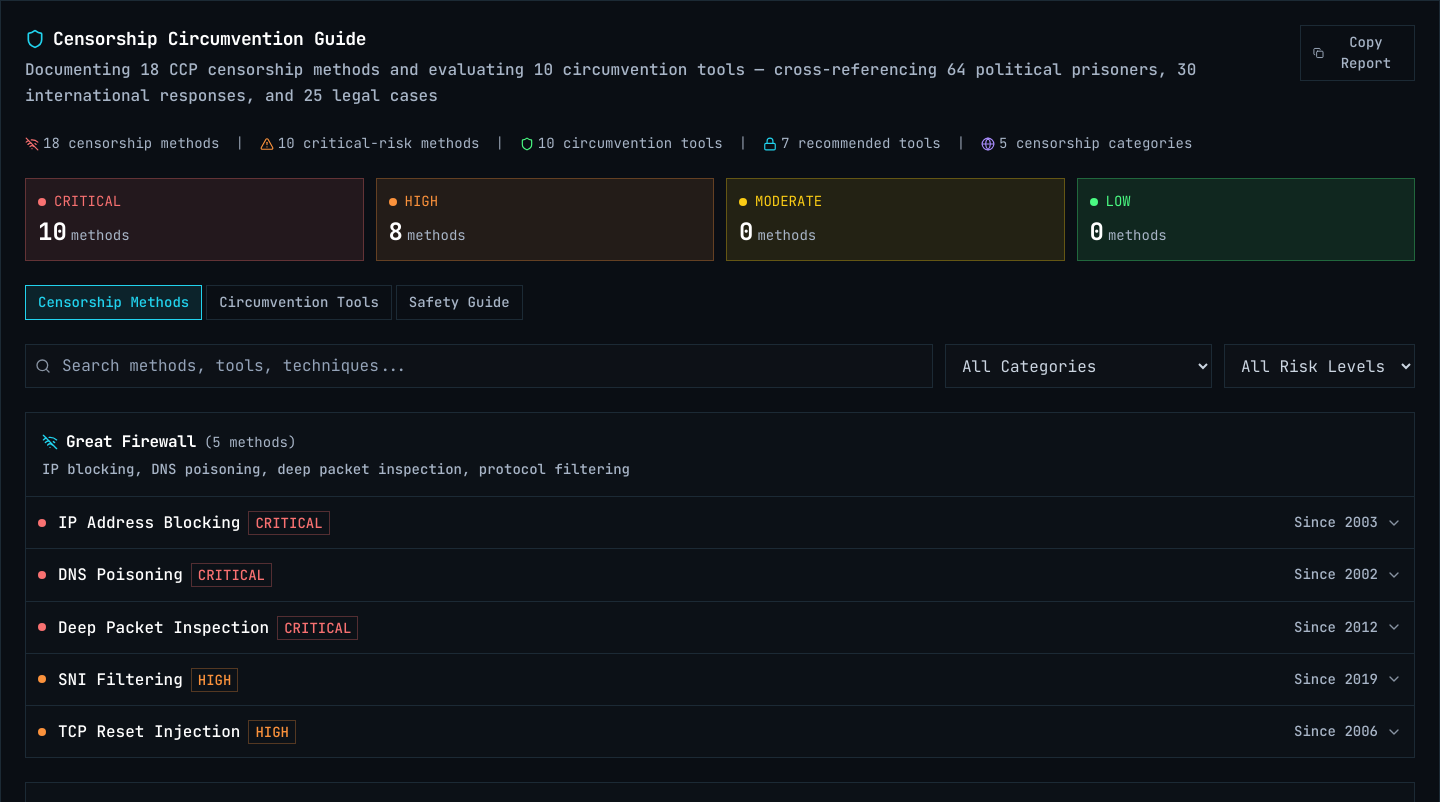
Test case: CensorshipCircumventionGuide › safety view shows critical warning
This screenshot has width=1440, height=802.
Click the button "Safety Guide" at (459, 303), box [396, 285, 523, 320]
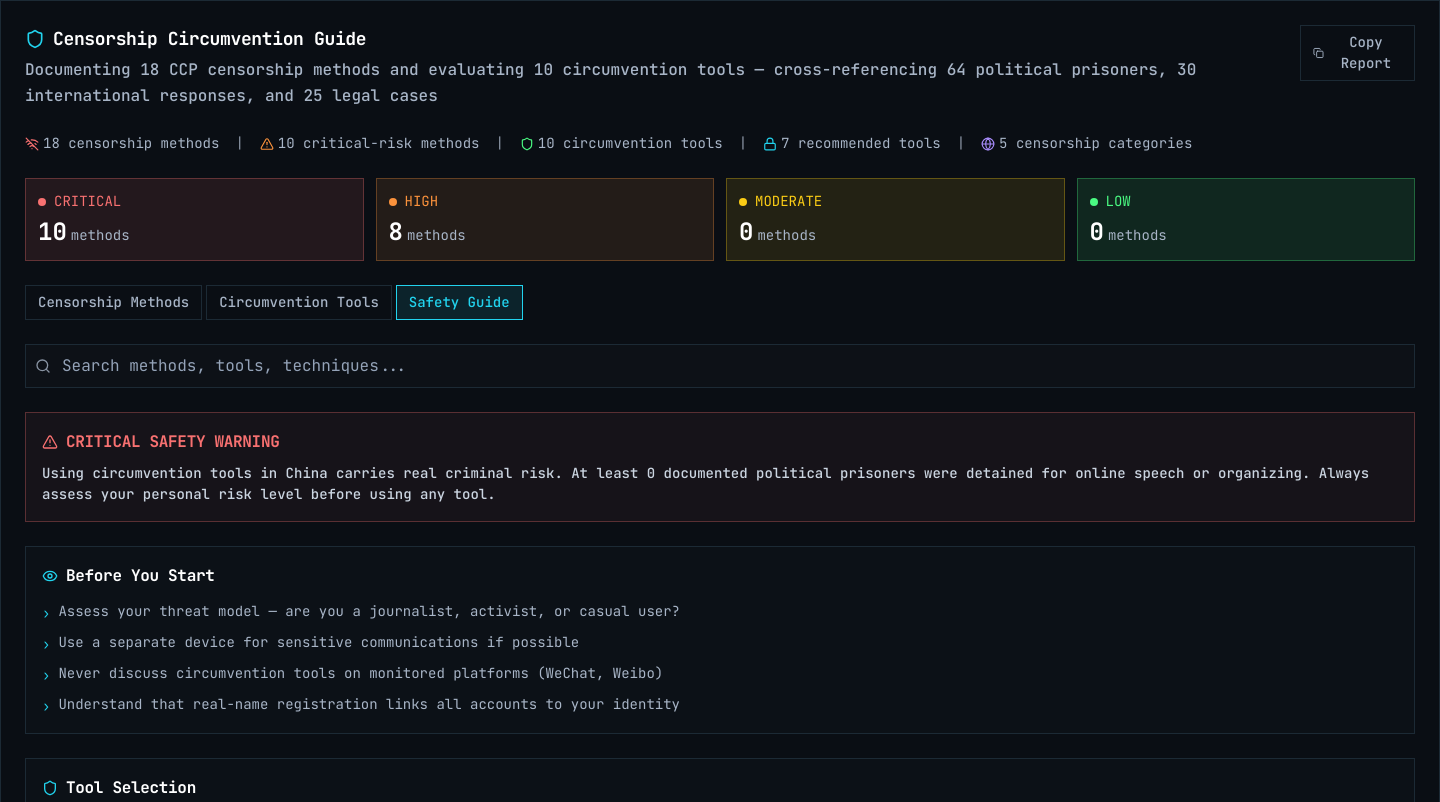
Check: the heading "CRITICAL SAFETY WARNING" is shown, box [42, 431, 280, 452]
